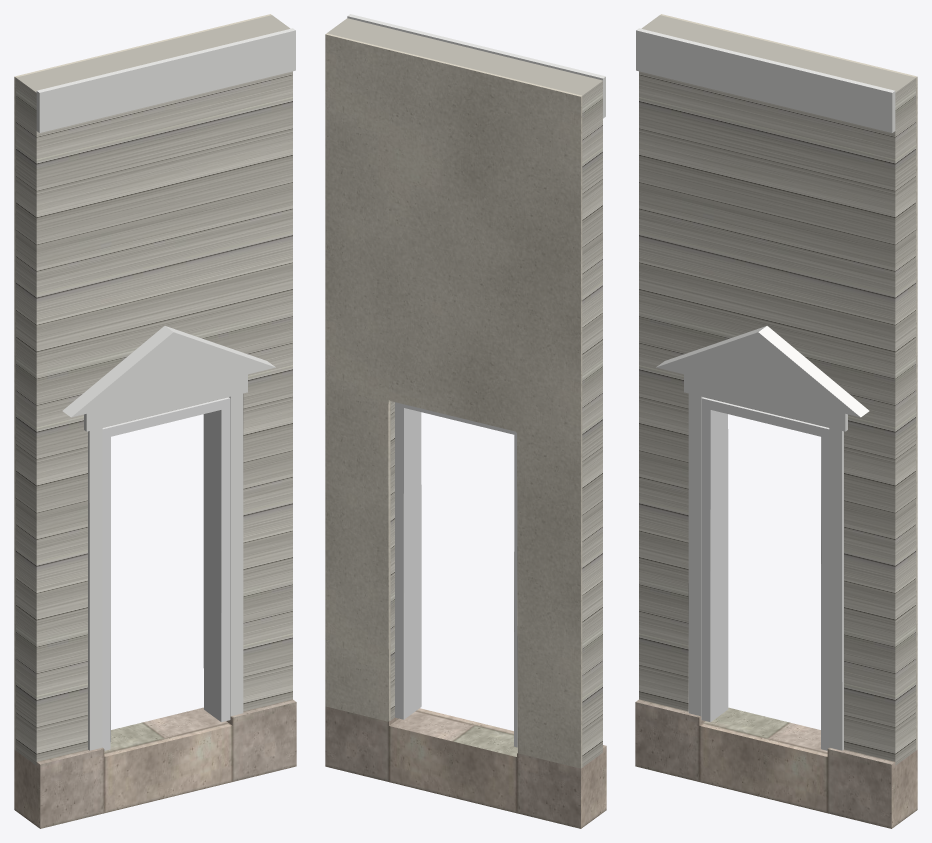
File: nave_wall_door.glb
The picture shows the model from 3 angles, left to right: view 1: azimuth 30°, elevation 25°; view 2: azimuth 150°, elevation 25°; view 3: azimuth 330°, elevation 25°; orthographic projection.
Parts seen in each view (by area): view 1: nave_wall_door_siding, nave_wall_door_trim, nave_wall_door_stone, nave_wall_door_frame, nave_wall_door_plaster; view 2: nave_wall_door_plaster, nave_wall_door_siding, nave_wall_door_stone, nave_wall_door_frame, nave_wall_door_trim; view 3: nave_wall_door_siding, nave_wall_door_trim, nave_wall_door_stone, nave_wall_door_frame, nave_wall_door_plaster.
Part boxes in pixels (bbox=[...]): nave_wall_door_siding: bbox=[16, 15, 292, 765]; nave_wall_door_trim: bbox=[36, 28, 295, 750]; nave_wall_door_stone: bbox=[14, 699, 296, 828]; nave_wall_door_frame: bbox=[102, 397, 230, 750]; nave_wall_door_plaster: bbox=[14, 14, 271, 750]; nave_wall_door_plaster: bbox=[325, 33, 582, 768]; nave_wall_door_siding: bbox=[327, 18, 602, 767]; nave_wall_door_stone: bbox=[325, 706, 606, 828]; nave_wall_door_frame: bbox=[395, 402, 517, 747]; nave_wall_door_trim: bbox=[347, 14, 605, 118]; nave_wall_door_siding: bbox=[639, 15, 915, 765]; nave_wall_door_trim: bbox=[636, 28, 895, 750]; nave_wall_door_stone: bbox=[635, 699, 917, 828]; nave_wall_door_frame: bbox=[701, 397, 829, 750]; nave_wall_door_plaster: bbox=[660, 14, 917, 750].
Bounding box in the file's own units: 2 × 5.49 × 0.42.
Materials: 5 (3 with a texture image).
